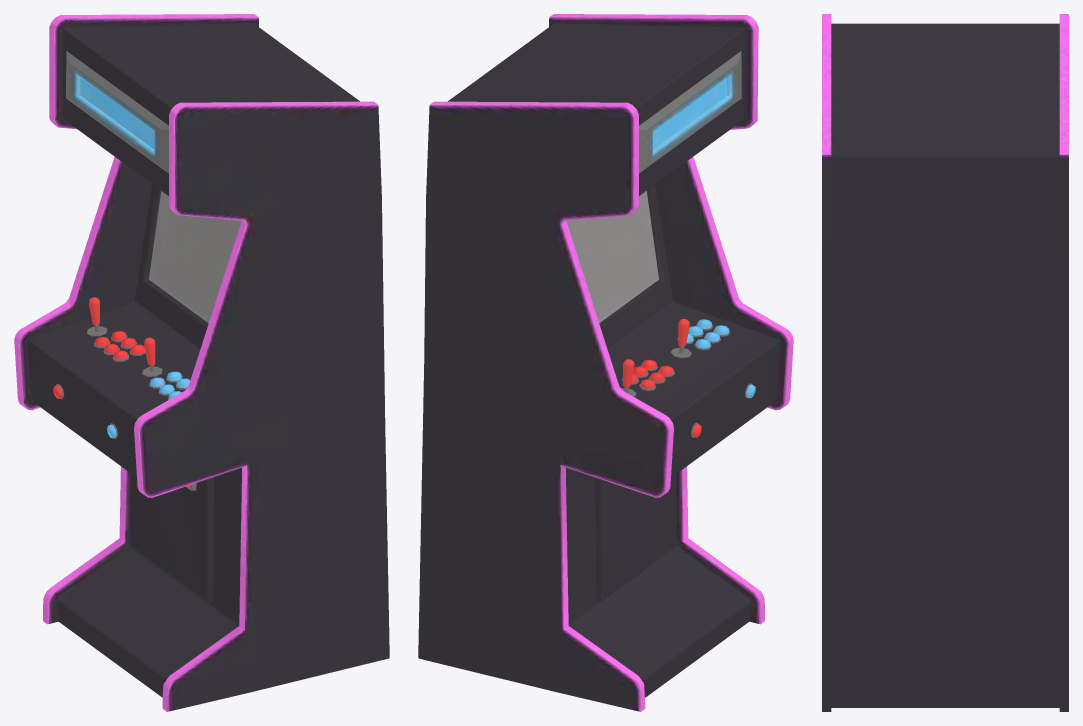
The model's file is arcade_machine.glb.
3 renders of one model, left to right at view 1: azimuth 30°, elevation 25°; view 2: azimuth 150°, elevation 25°; view 3: azimuth 270°, elevation 25°, orthographic.
Visible parts, largest first — view 1: defaultMaterial; view 2: defaultMaterial; view 3: defaultMaterial.
Boxes of the visible parts, x1,y1,x2,y2 form: defaultMaterial: (14,14,389,711); defaultMaterial: (418,14,793,711); defaultMaterial: (822,14,1068,711).
Size of the model in its own units: 2.76 by 6.33 by 2.37.
1 material, 1 textured.
